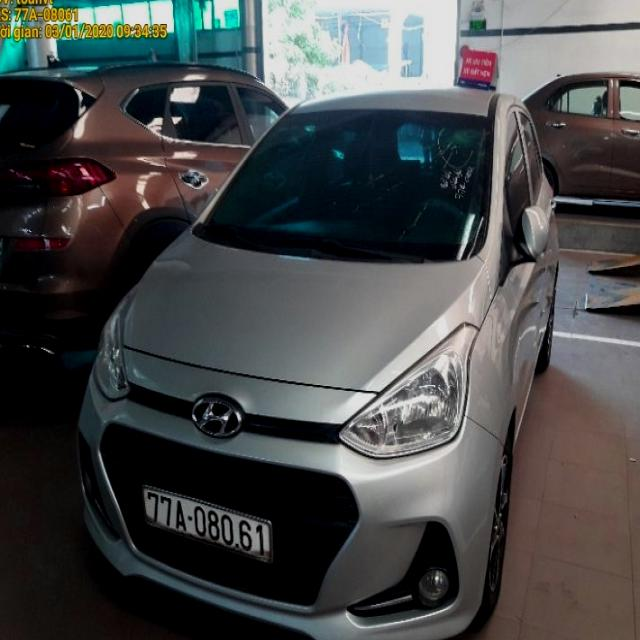Cabossage: (513, 271, 546, 427)
Fissure: (337, 171, 431, 263), (433, 117, 487, 184)
